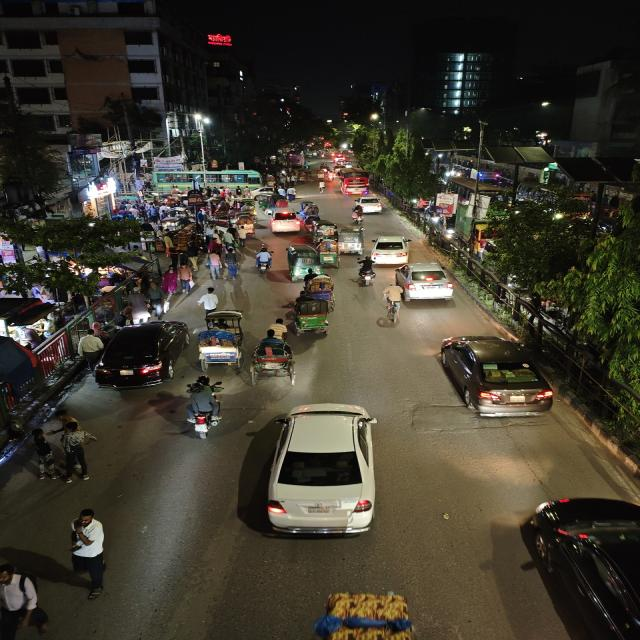bicycle: (379, 294, 404, 328), (317, 182, 326, 195)
bus: (151, 169, 265, 190), (337, 169, 372, 196)
car: (243, 398, 390, 541), (514, 490, 640, 640), (434, 331, 558, 421), (95, 317, 188, 391), (395, 260, 456, 304), (366, 234, 412, 264), (269, 210, 302, 236), (351, 195, 386, 215)
cng: (285, 244, 320, 280), (337, 226, 364, 254)
motorcycle: (179, 376, 226, 440), (354, 256, 379, 288), (252, 247, 276, 275), (349, 205, 365, 225)
pedestrian: (60, 505, 113, 602), (56, 421, 99, 483), (27, 430, 58, 480), (76, 329, 104, 368), (220, 247, 242, 284), (194, 286, 221, 314), (203, 250, 226, 280), (176, 262, 196, 295)
rickshaw: (194, 309, 250, 373), (247, 332, 299, 386), (290, 297, 334, 338), (316, 236, 342, 268), (307, 275, 335, 300), (233, 213, 260, 237), (261, 194, 290, 216)
